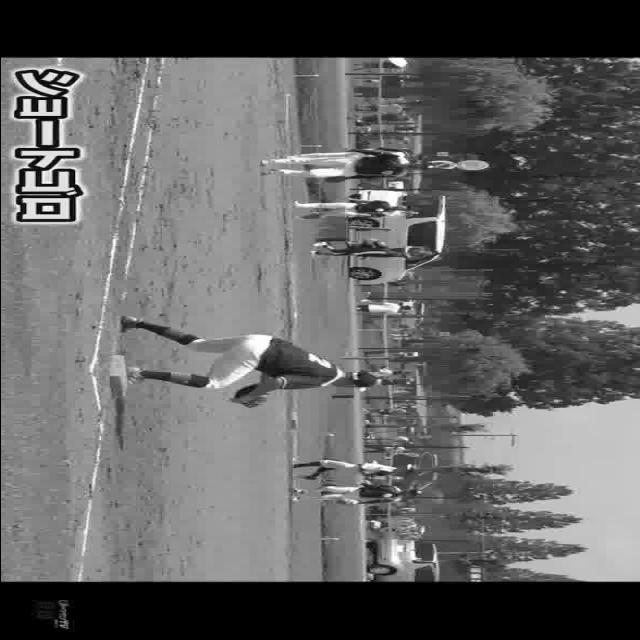base: (110, 355, 130, 401)
baseball_glove: (229, 384, 271, 410), (320, 175, 352, 183)
shoe: (114, 315, 146, 333), (128, 367, 146, 388), (257, 166, 283, 178), (256, 154, 270, 172)
